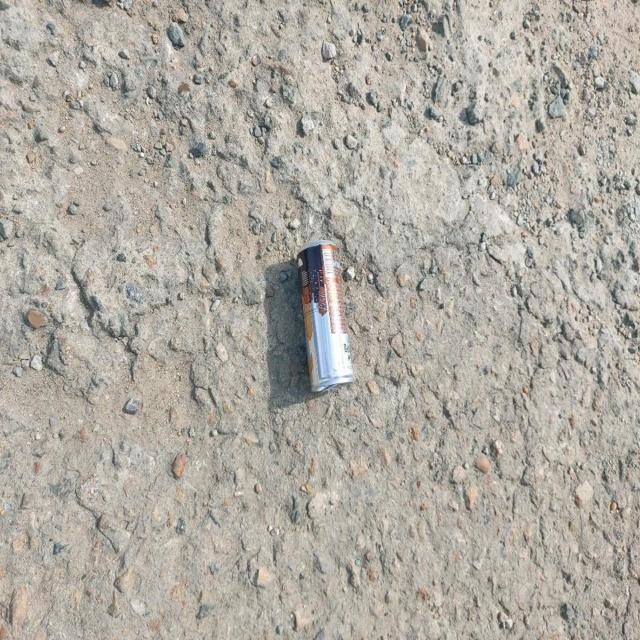can: (296, 240, 354, 393)
